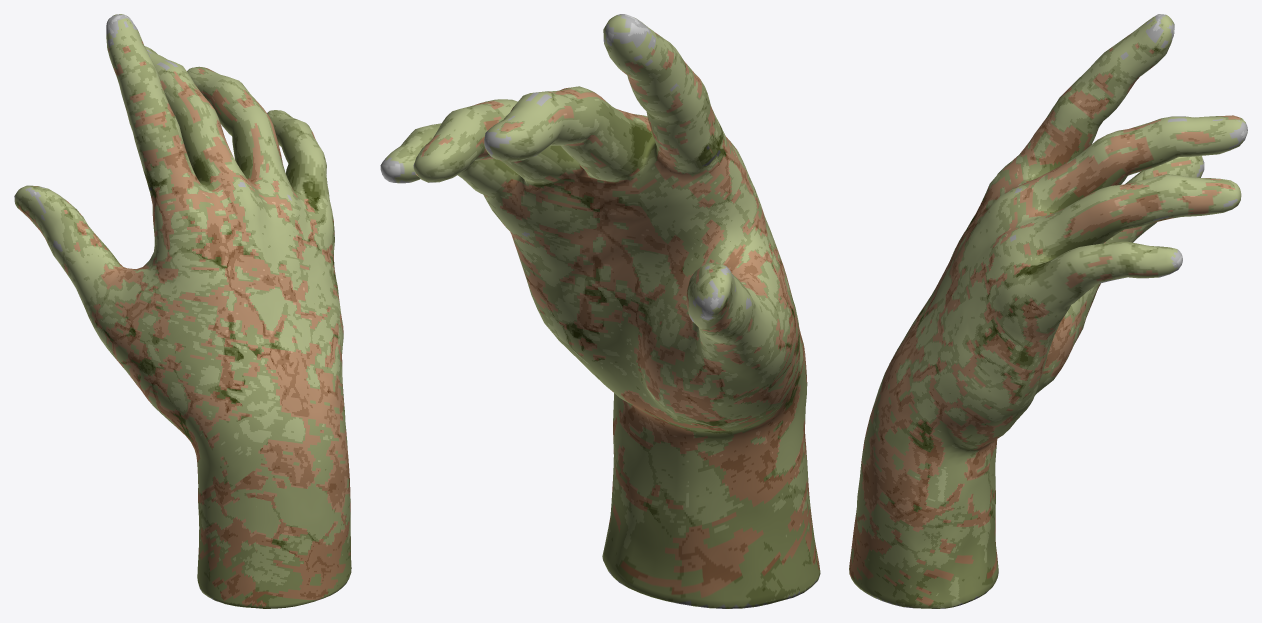
The model's file is hand_sculpture-v4.glb.
3 renders of one model, left to right at view 1: azimuth 30°, elevation 25°; view 2: azimuth 150°, elevation 25°; view 3: azimuth 270°, elevation 25°, orthographic. The views are drawn at different scales.
Visible parts, largest first — view 1: hand_low; view 2: hand_low; view 3: hand_low.
Part boxes in pixels (bbox=[...]): hand_low: bbox=[14, 14, 351, 608]; hand_low: bbox=[380, 14, 820, 608]; hand_low: bbox=[849, 14, 1247, 608].
Bounding box in the file's own units: 1 × 1.8 × 1.22.
Materials: 1 (1 with a texture image).
